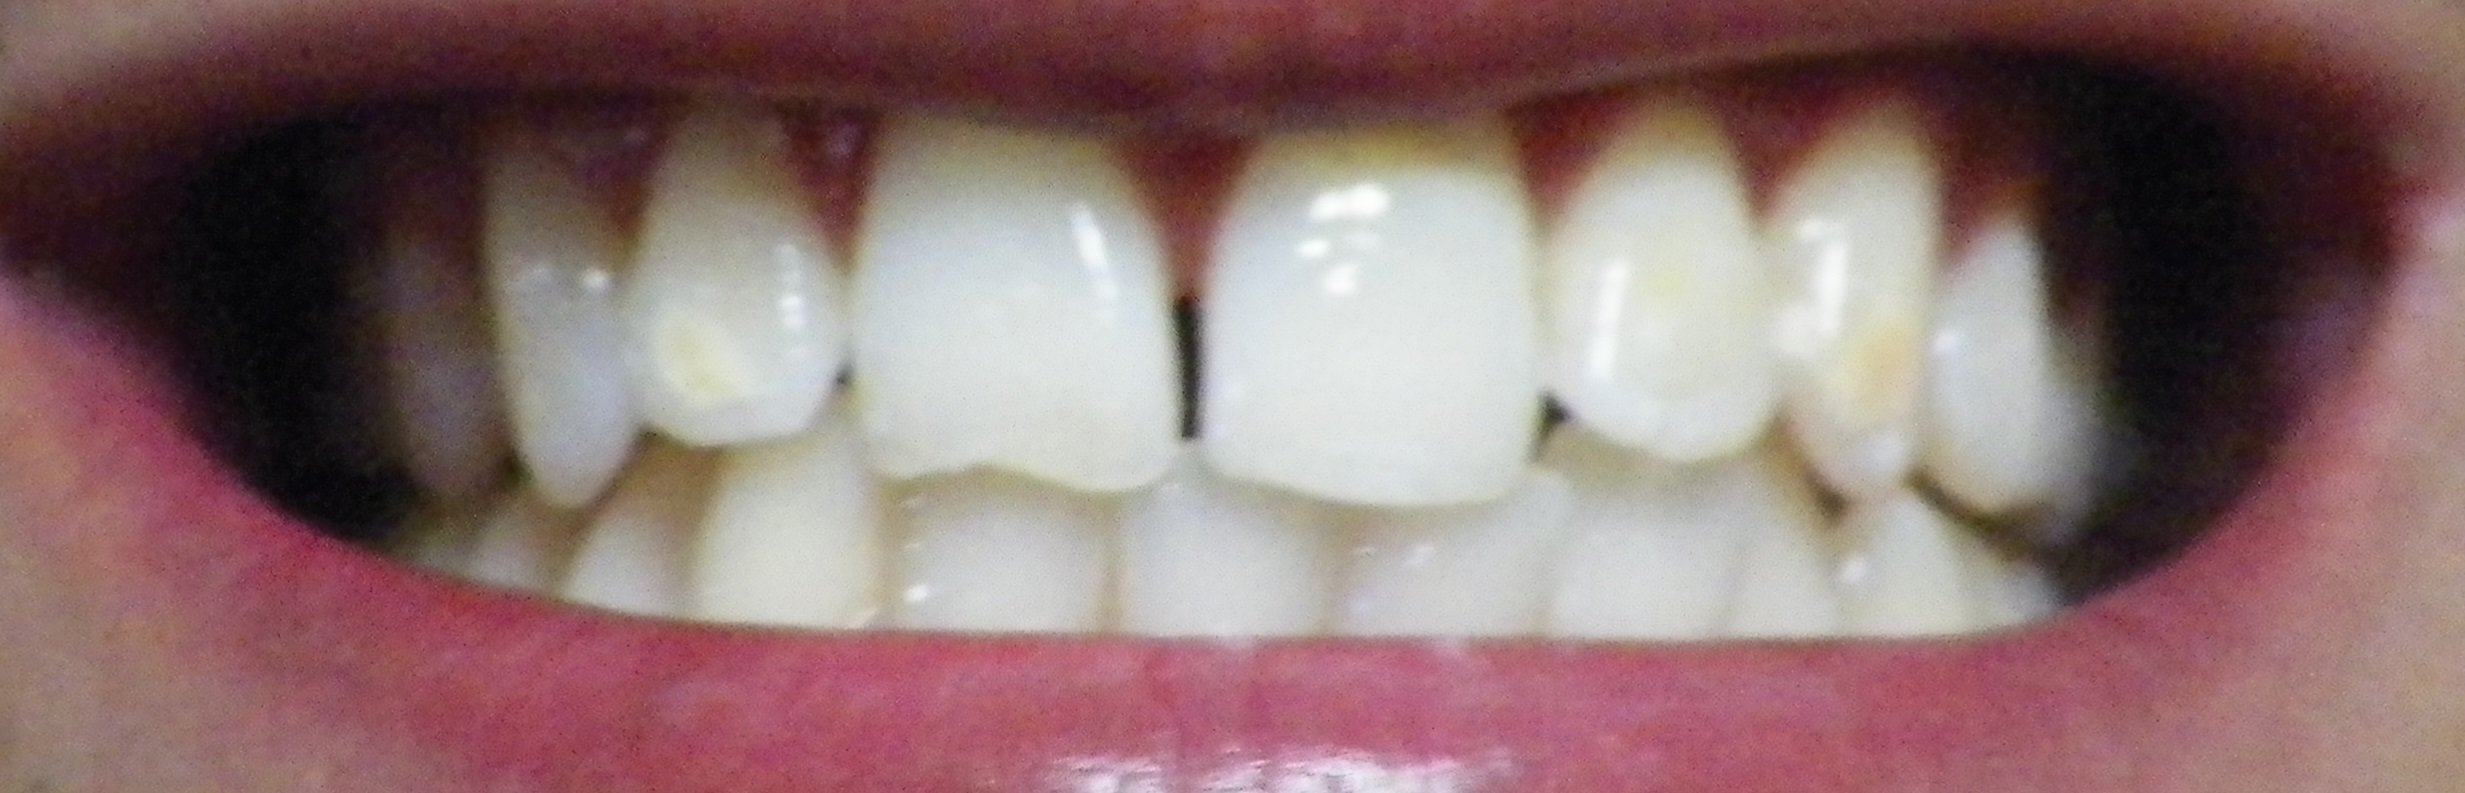boca: (377, 90, 2097, 644)
